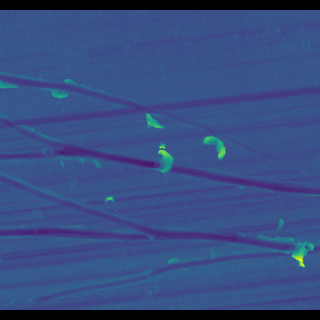Loch: (0, 75, 319, 195), (0, 171, 301, 246), (25, 243, 293, 296), (152, 141, 176, 175), (288, 228, 311, 262), (201, 133, 227, 161), (142, 113, 164, 130)
